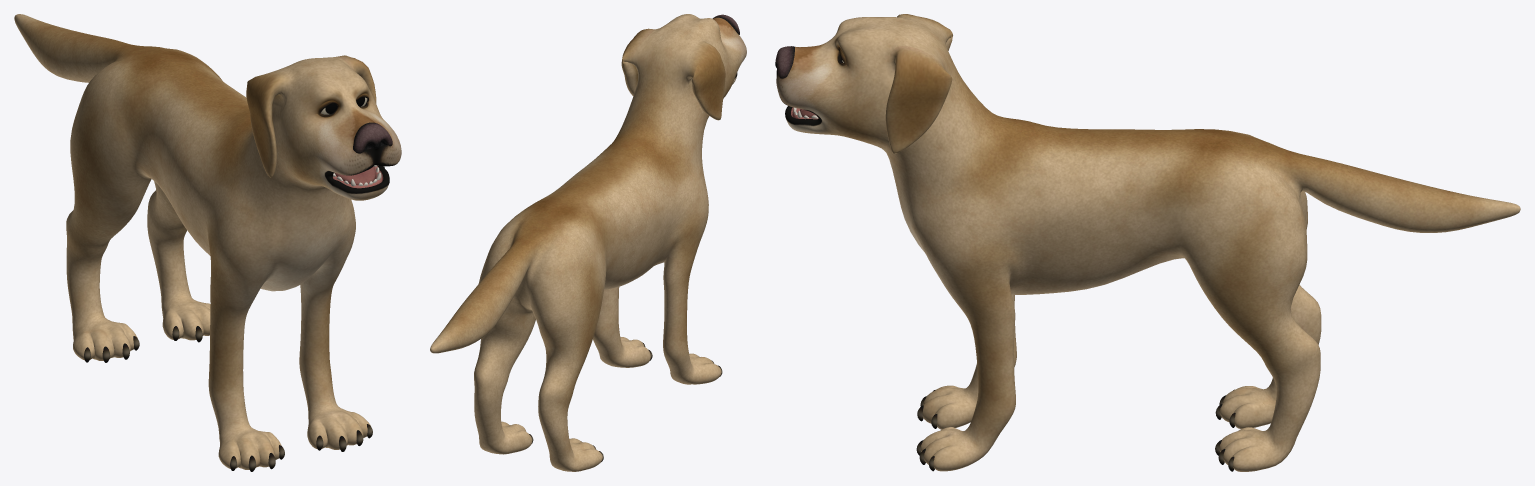
File: backon_mporph_test_-_copy.glb
The picture shows the model from 3 angles, left to right: view 1: azimuth 30°, elevation 25°; view 2: azimuth 150°, elevation 25°; view 3: azimuth 270°, elevation 25°; orthographic projection. The views are drawn at different scales.
Parts seen in each view (by area): view 1: 0; view 2: 0; view 3: 0.
Boxes of the visible parts, box(x1,y1,x2,y2) form: 0: box(14, 14, 401, 471); 0: box(430, 14, 746, 471); 0: box(775, 14, 1520, 471).
Size of what is drawn, in the model's own units: 0.0291 by 0.0768 by 0.1245.
2 materials, 1 textured.
